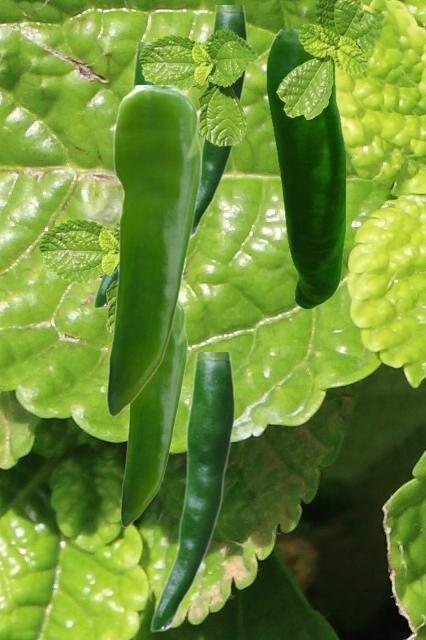green_chili: (106, 85, 200, 415), (149, 352, 233, 631), (266, 29, 344, 308), (92, 42, 152, 308), (120, 300, 186, 526), (192, 5, 246, 238)
